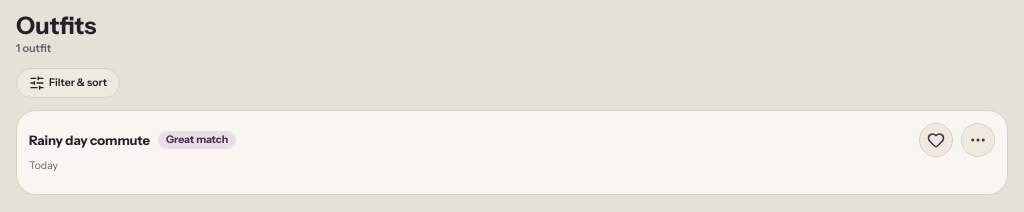
Scenario: OutfitsGrid › tapping the heart toggles favorite via the API and updates the icon label
Expected: the button "Rainy day commute" is shown, [29,131,150,149]
Click the button named "Save outfit": (936, 140) [919,123,953,157]
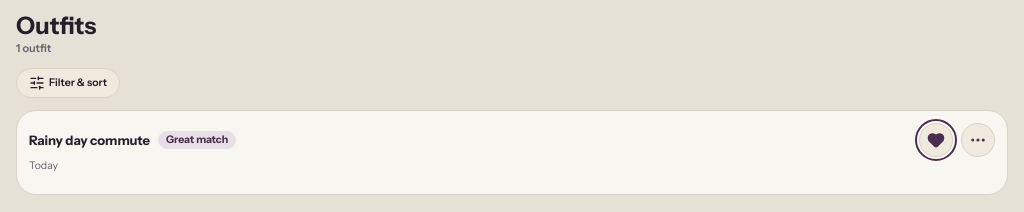
Now the button named "Unsave outfit" is shown, box [919,123,953,157]
